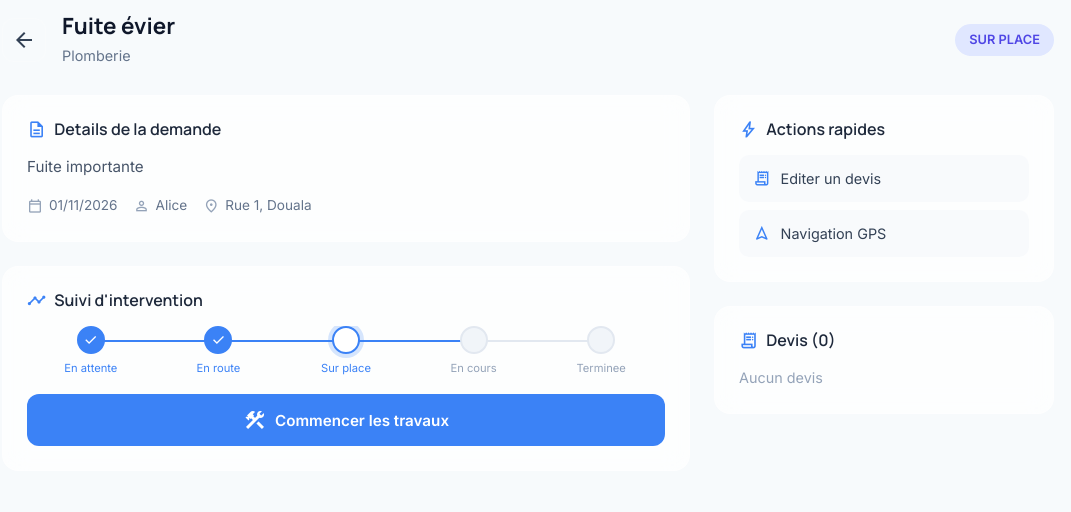
Test case: MissionDetail › depuis « arrived », l'action « Commencer les travaux » demande le statut « in_progress »
This screenshot has width=1071, height=512.
Click the button "Commencer les travaux". click: [346, 420]
box: [27, 394, 665, 446]
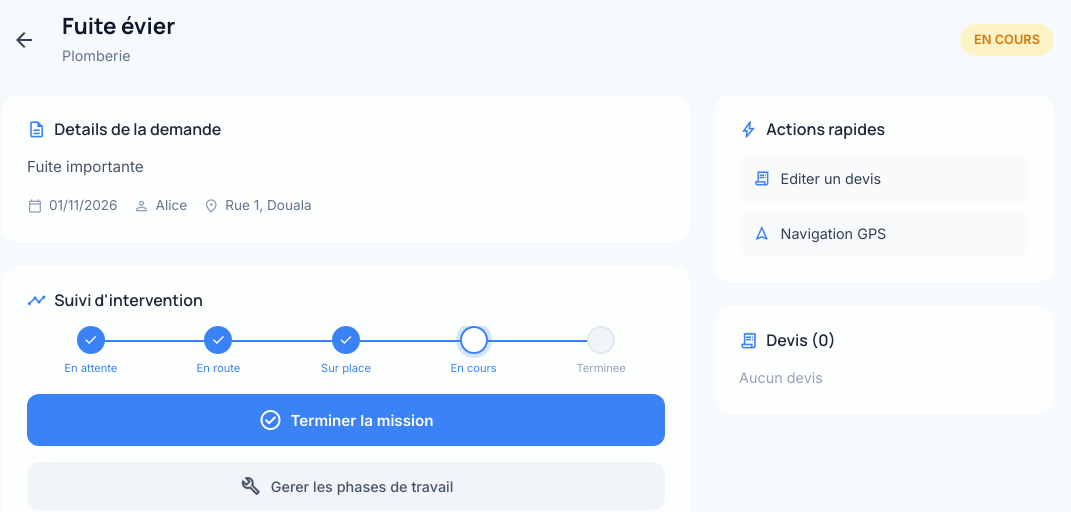
Check: the text with class "md-status-pill" reads "En cours", box [974, 32, 1040, 47]
